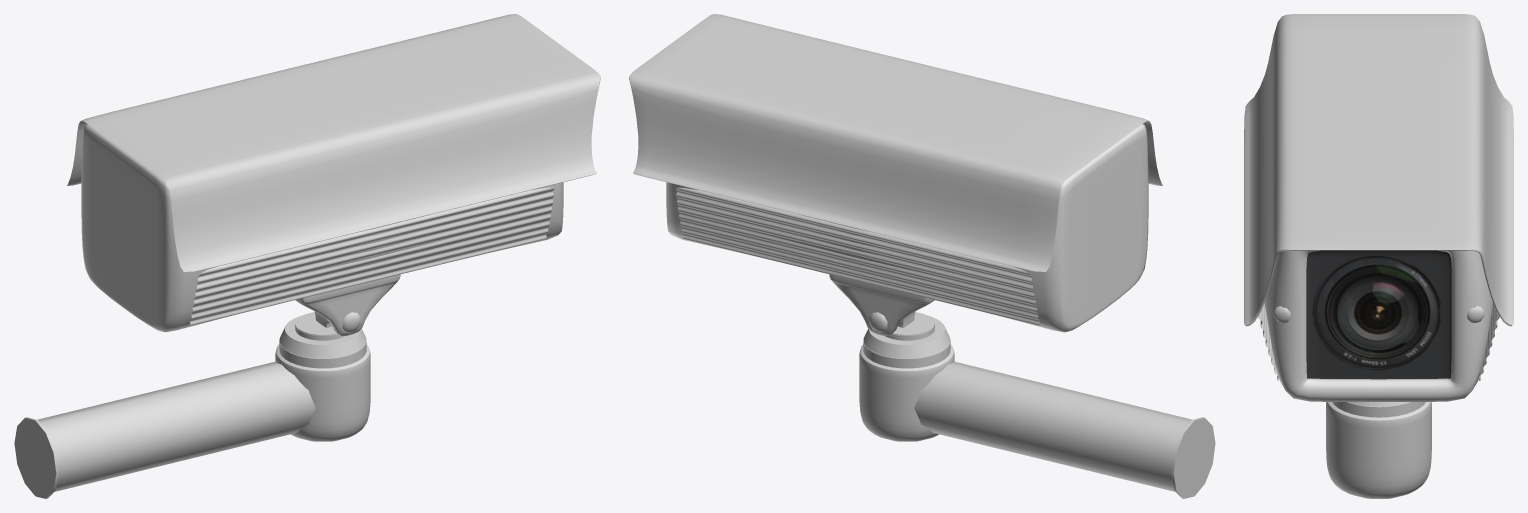
File: SecurityCam.fbx
3 views of the same model, side by side, from view 1: azimuth 30°, elevation 25°; view 2: azimuth 150°, elevation 25°; view 3: azimuth 270°, elevation 25° (orthographic). The views are drawn at different scales.
Visible parts, largest first — view 1: Plane, Cylinder.003, Plane.001, Cube, Cylinder.002, Cylinder.001, Cube.001; view 2: Plane, Cylinder.003, Plane.001, Cube, Cylinder.002, Cylinder.001, Cube.001; view 3: Plane, Cube, Cylinder.002, Cylinder.001, Plane.001, Sphere.001.
Part boxes in pixels (x1=…): Plane: x1=67, y1=14, x2=600, y2=271; Cylinder.003: x1=14, y1=361, x2=315, y2=498; Plane.001: x1=190, y1=187, x2=554, y2=325; Cube: x1=81, y1=124, x2=563, y2=332; Cylinder.002: x1=275, y1=344, x2=370, y2=441; Cylinder.001: x1=279, y1=312, x2=366, y2=368; Cube.001: x1=295, y1=274, x2=400, y2=335; Plane: x1=629, y1=14, x2=1162, y2=271; Cylinder.003: x1=914, y1=361, x2=1215, y2=498; Plane.001: x1=675, y1=187, x2=1039, y2=325; Cube: x1=666, y1=124, x2=1148, y2=332; Cylinder.002: x1=859, y1=344, x2=954, y2=441; Cylinder.001: x1=863, y1=312, x2=950, y2=368; Cube.001: x1=829, y1=274, x2=934, y2=335; Plane: x1=1244, y1=14, x2=1513, y2=326; Cube: x1=1264, y1=250, x2=1493, y2=401; Cylinder.002: x1=1326, y1=402, x2=1431, y2=498; Cylinder.001: x1=1332, y1=402, x2=1425, y2=417; Plane.001: x1=1258, y1=303, x2=1499, y2=380; Sphere.001: x1=1273, y1=306, x2=1484, y2=322.
Size of the model in its own units: 1060 by 634 by 426.
